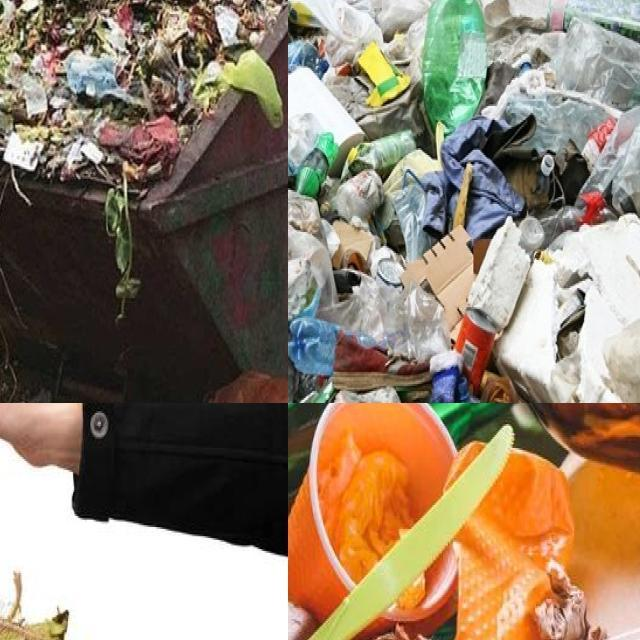Garbage: (288, 0, 640, 403), (288, 403, 640, 640)
Plastic: (307, 425, 513, 640), (454, 451, 573, 640)
Plastic_Bag: (491, 20, 640, 213), (324, 276, 451, 361), (193, 48, 284, 129), (288, 190, 337, 320), (288, 0, 383, 65), (66, 51, 145, 103), (342, 130, 416, 180), (337, 171, 383, 221)
Plastic_bottle: (422, 0, 487, 134), (551, 0, 640, 41), (288, 317, 338, 374), (296, 132, 339, 197), (288, 41, 329, 76), (518, 216, 544, 253)
Tin_box: (455, 308, 497, 393)
